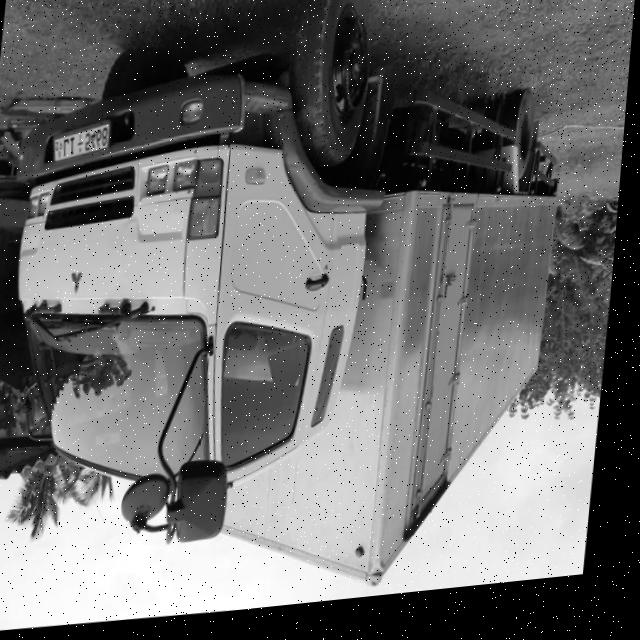truck: (1, 1, 413, 563)
